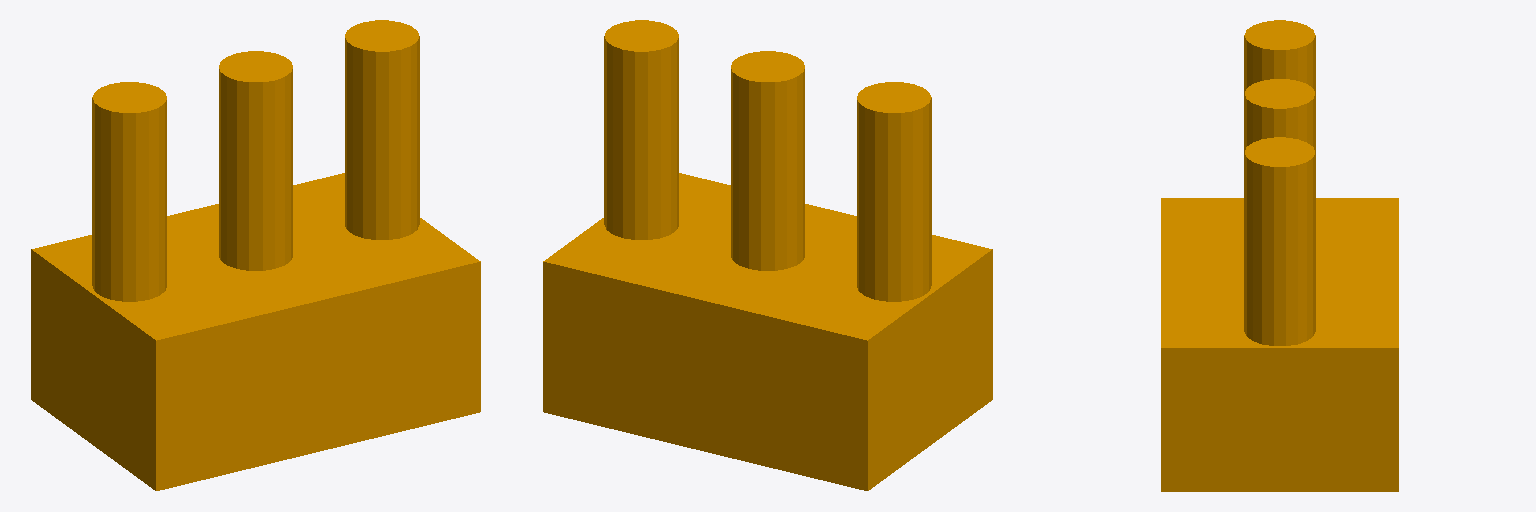
robot.urdf — three_circle_peg:
<?xml version="1.0"?>
<robot name="three_circle_peg">
    <link name="three_circle_peg">
        <visual>
            <origin xyz="0 0 0"/>
            <geometry>
                <mesh filename="../mesh/factory_insertion/three_circle_peg.obj"/>
            </geometry>
        </visual>
        <collision>
            <geometry>
                <mesh filename="../mesh/factory_insertion/three_circle_peg.obj"/>
            </geometry>
            <sdf resolution="256"/>
        </collision>
    </link>

    <joint name="base_to_grippoint" type="fixed">
      <parent link="three_circle_peg"/>
      <child link="grip_point"/>
      <origin rpy="0 0 0" xyz="0 0 -0.055"/>
    </joint>

    <!-- <joint name="grippoint_left" type="fixed">
      <parent link="grip_point"/>
      <child link="left_girpponit"/>
      <origin rpy="0 0 0" xyz="0 0.03 0"/>
    </joint>

    <joint name="grippoint_right" type="fixed">
      <parent link="grip_point"/>
      <child link="right_girpponit"/>
      <origin rpy="0 0 0" xyz="0 -0.03 0"/>
    </joint> -->

    <!-- <link name="left_girpponit">
      <visual>
        <geometry>
          <sphere radius="0.0005"/>
        </geometry>
        <material name="red">
          <color rgba="0.0 0.0 0.0 1" />
        </material>
        <origin xyz="0 0 0"/>
      </visual>
    </link>

    <link name="right_girpponit">
      <visual>
        <geometry>
          <sphere radius="0.0005"/>
        </geometry>
        <material name="red">
          <color rgba="1.0 1.0 1.0 1" />
        </material>
        <origin xyz="0 0 0"/>
      </visual>
    </link> -->

    <link name="grip_point">
      <visual>
        <geometry>
          <sphere radius="0.0005"/>
        </geometry>
        <material name="Vis"/>
        <origin xyz="0 0 0"/>
      </visual>
    </link>

</robot>

--- What the picture shows (computed from the rendered views, not written in the file) ---
3 views of the same robot in one strip: view 1: azimuth 30°, elevation 25°; view 2: azimuth 150°, elevation 25°; view 3: azimuth 270°, elevation 25° (orthographic).
Model three_circle_peg with 2 links and 1 joints (1 fixed), rooted at three_circle_peg, posed every joint at zero.
Visible links, largest first — view 1: three_circle_peg; view 2: three_circle_peg; view 3: three_circle_peg.
Boxes of the visible links, box(x1,y1,x2,y2) form: three_circle_peg: box(31, 20, 480, 490); three_circle_peg: box(543, 20, 992, 490); three_circle_peg: box(1161, 20, 1398, 491).
Bounding box of the posed robot: 0.09 × 0.06 × 0.09 m (x, y, z).
Meshes: 1 distinct files referenced, 1 mesh visuals loaded (1 OBJ).
